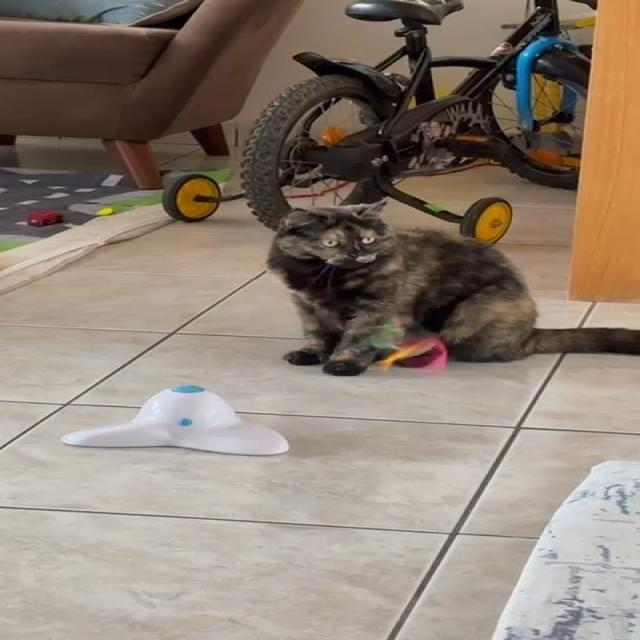authorized: (265, 199, 639, 376)
